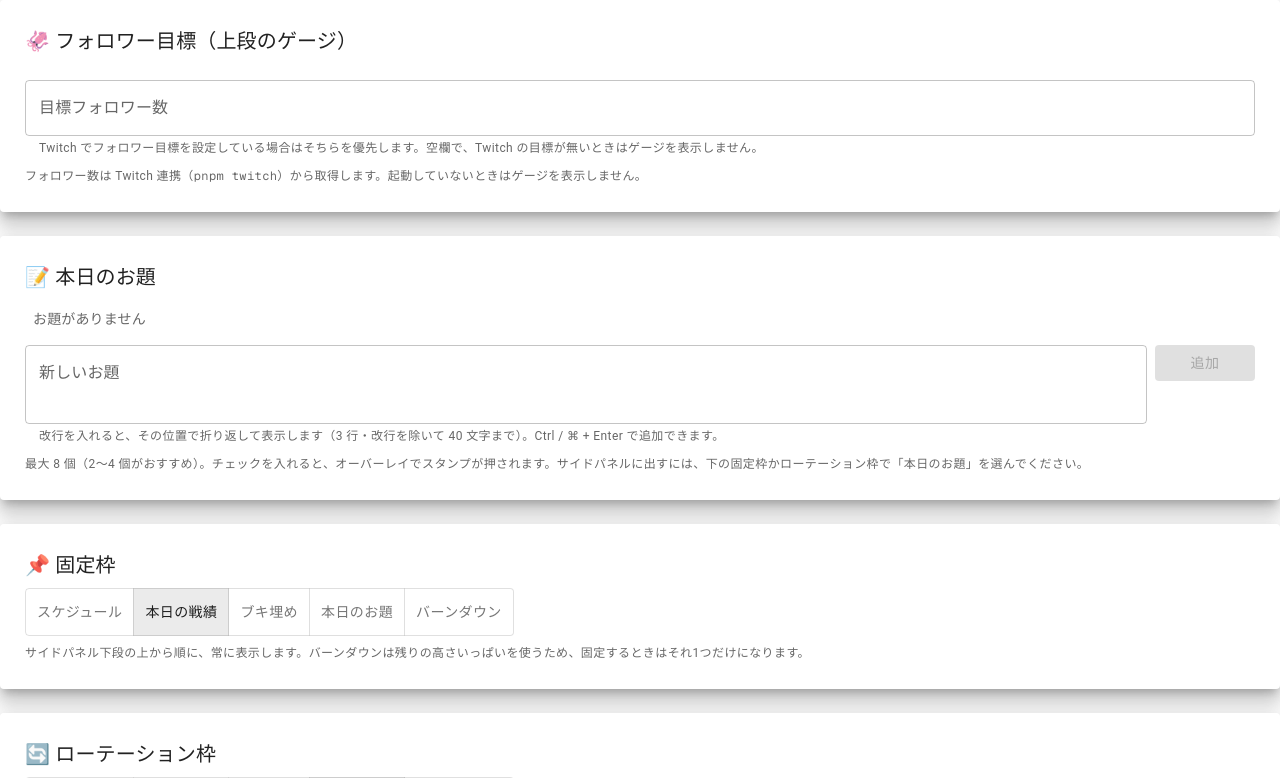
Test: SidePanelSettingsPanel › fixes the burndown alone and turns off the rotation
expect the heading "📌 固定枠" is shown: met, box x1=25 y1=553 x2=116 y2=577
Step 1. Click the 1st button "バーンダウン" → (459, 612), box x1=404 y1=588 x2=514 y2=636
(page scrolled)
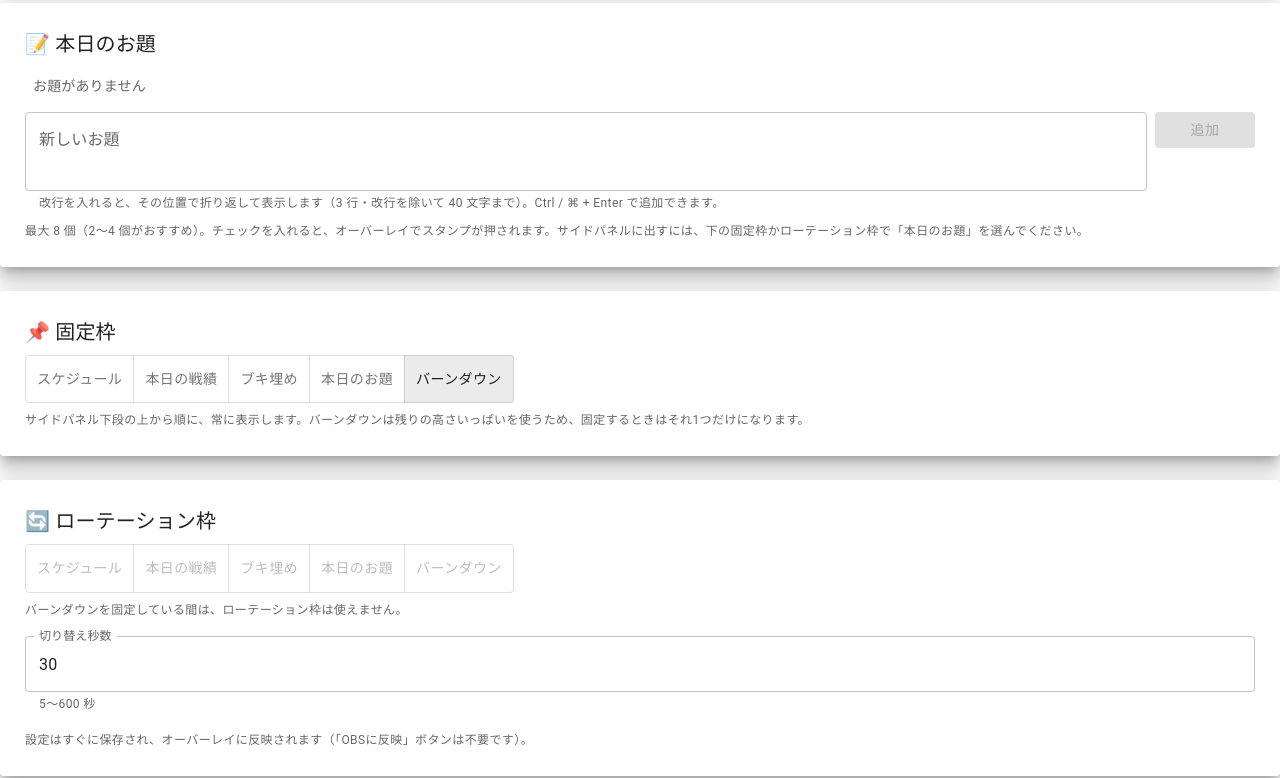
expect the button "本日のお題" below "🔄 ローテーション枠" is disabled: met, box x1=309 y1=544 x2=405 y2=592
